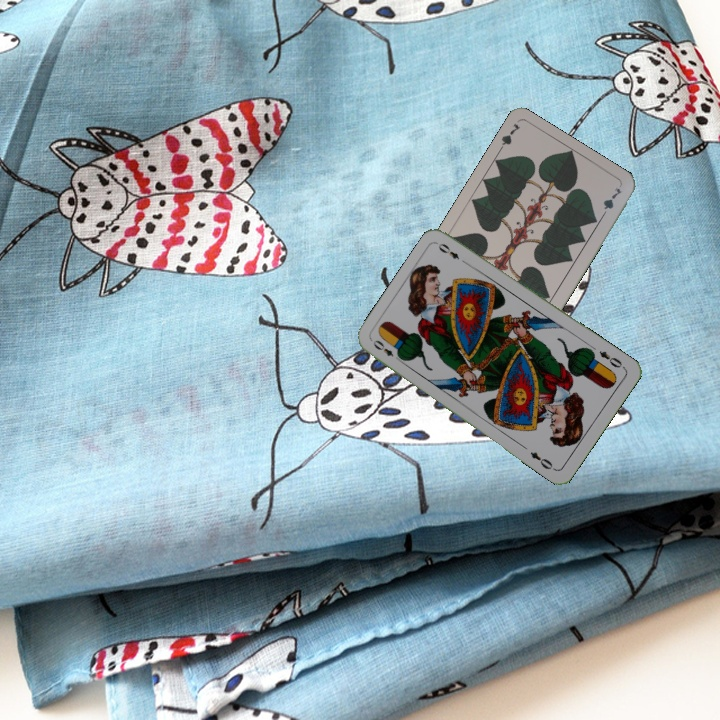EO: (369, 336, 404, 364), (595, 347, 627, 371)
G7: (493, 119, 523, 156)
